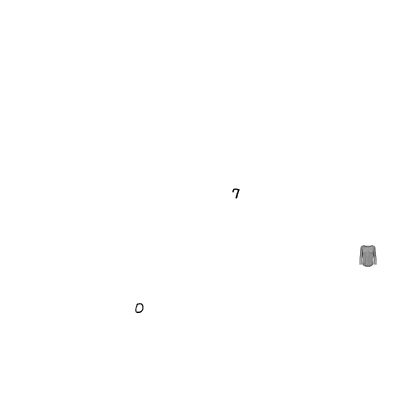1: (240, 233, 324, 317)
Dress: (94, 126, 136, 168)
Pullover: (219, 81, 331, 193)
Shirt: (61, 178, 173, 290), (347, 202, 369, 224)
